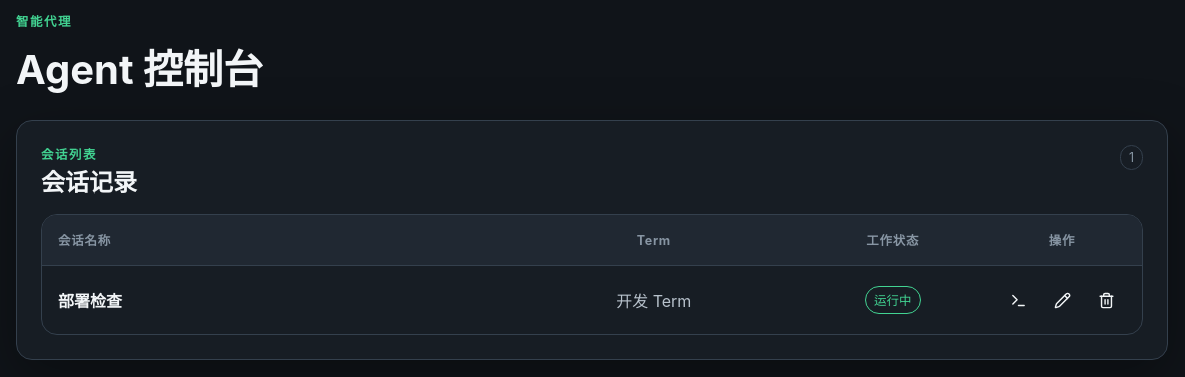
it: AgentView › renames a conversation from its row and reflects the returned title
Click the button named "重命名会话：部署检查". click: [1062, 300]
box: [1044,282,1080,318]
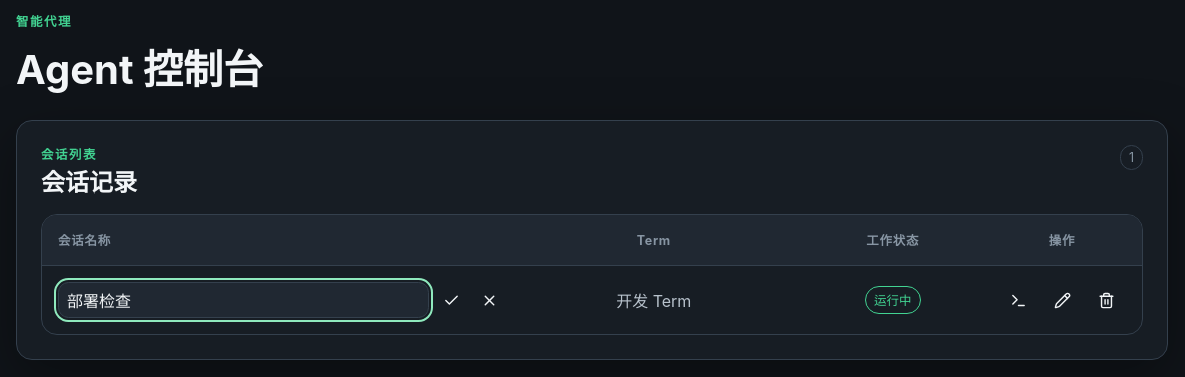
Replace the text in the field with "  终端回归  ". click: [243, 300]
box: [58,282,429,318]
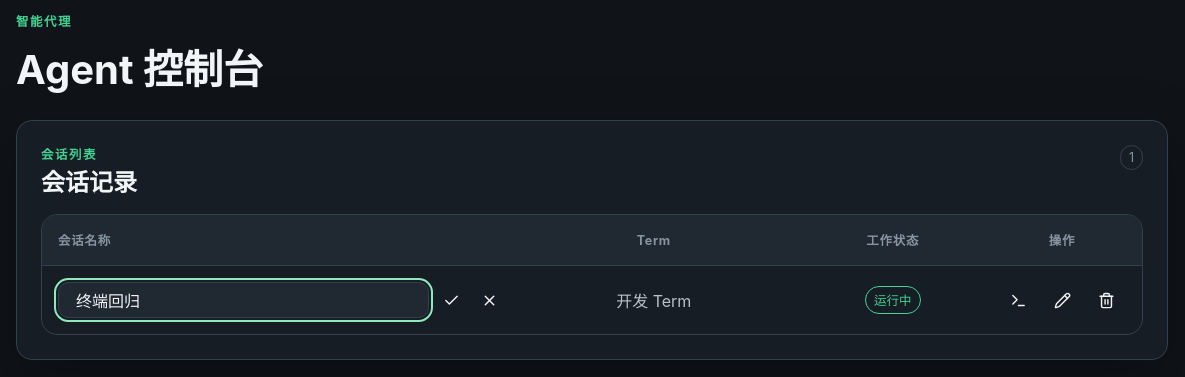
Click the button named "保存会话名称". click: [452, 300]
box: [437,282,466,318]
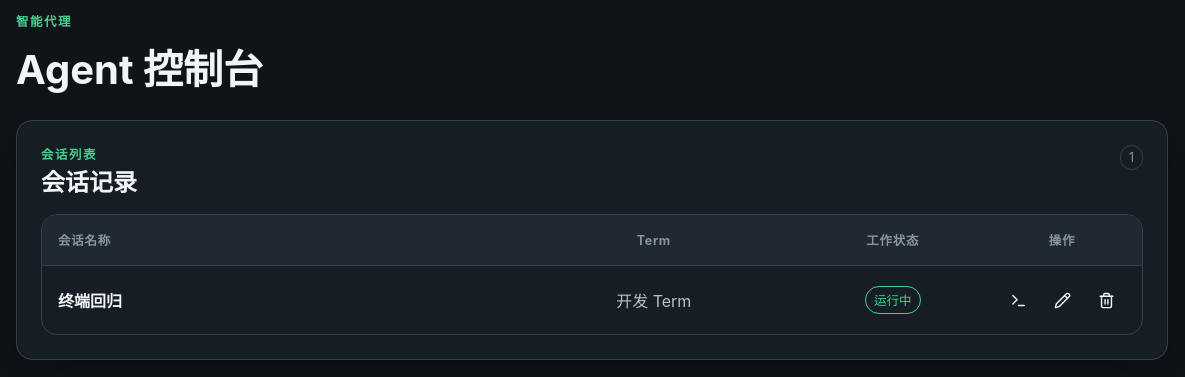
Check: the link "终端回归" is shown, box [58,291,122,311]
